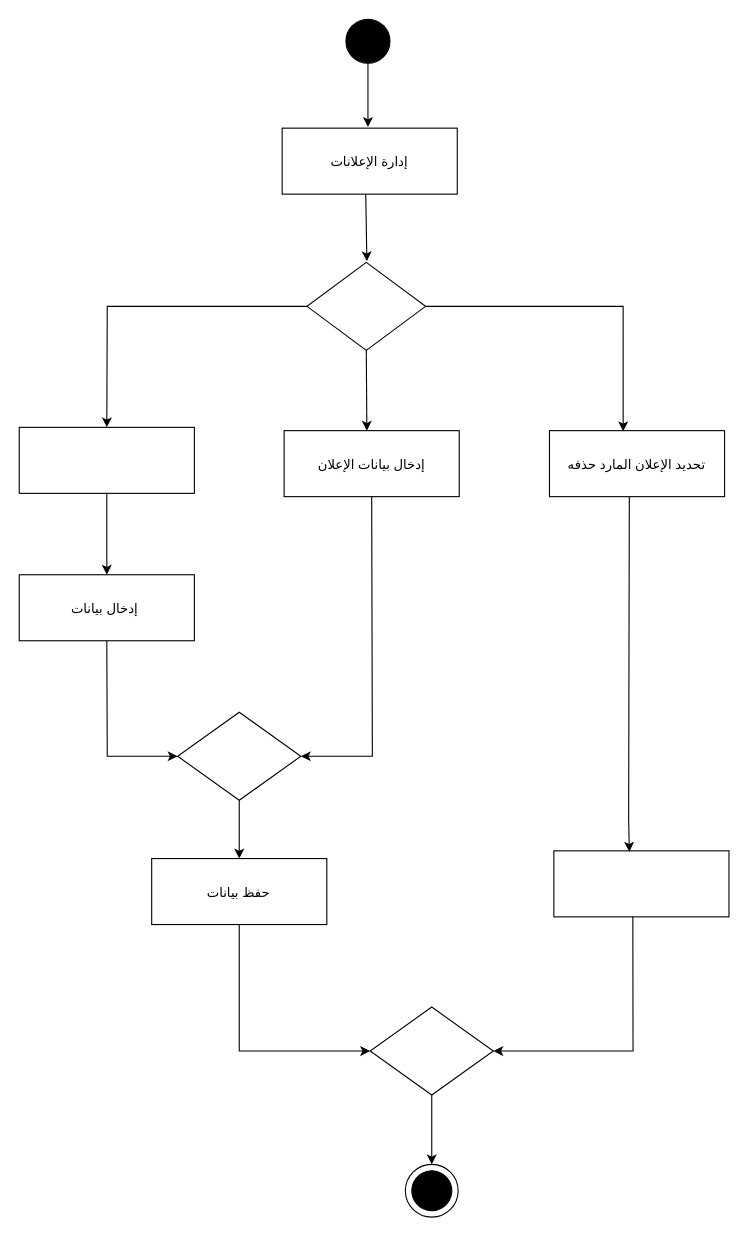
Some shapes in this 749 by 1236 pixel diagram are drawn without their labels. The box of each missing label's shape, as (x1, y1, x2, y2) in pixels:
تحديد الإعلان المراد تعديله: (18, 426, 194, 493)
حذف الإعلان: (553, 850, 729, 917)
